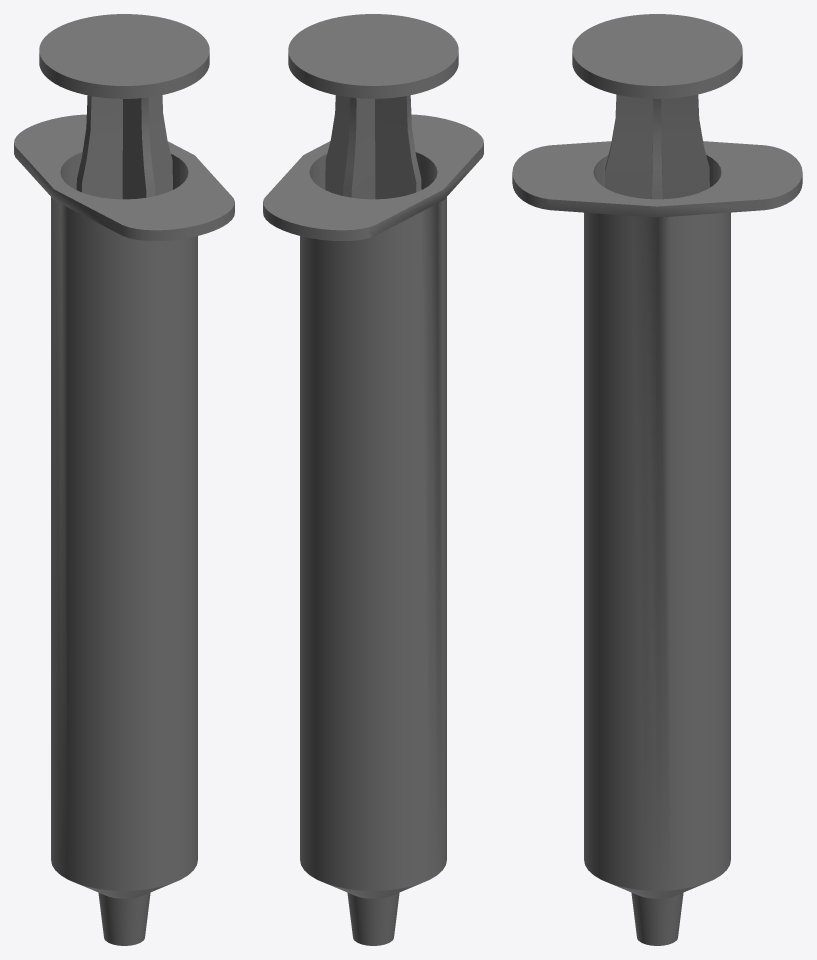
The model's file is Syringe10ml.fbx.
3 views of the same model, side by side, from view 1: azimuth 30°, elevation 25°; view 2: azimuth 150°, elevation 25°; view 3: azimuth 270°, elevation 25° (orthographic).
Visible parts, largest first — view 1: syringe, Cap_2, InsideSyringe_1, top, syringeInside; view 2: syringe, Cap_2, InsideSyringe_1, top, syringeInside; view 3: syringe, Cap_2, InsideSyringe_1, top.
Part boxes in pixels (box(x1,y1,x2,y2)): syringe: box(14, 114, 234, 945); Cap_2: box(39, 14, 209, 85); InsideSyringe_1: box(76, 95, 172, 199); top: box(39, 52, 209, 98); syringeInside: box(60, 152, 188, 189); syringe: box(263, 114, 483, 945); Cap_2: box(288, 14, 458, 85); InsideSyringe_1: box(325, 95, 421, 199); top: box(288, 52, 458, 98); syringeInside: box(309, 152, 437, 189); syringe: box(512, 141, 802, 945); Cap_2: box(572, 14, 742, 85); InsideSyringe_1: box(605, 94, 709, 199); top: box(572, 52, 742, 98).
Size of the model in its own units: 3.29 by 18.92 by 5.61.
